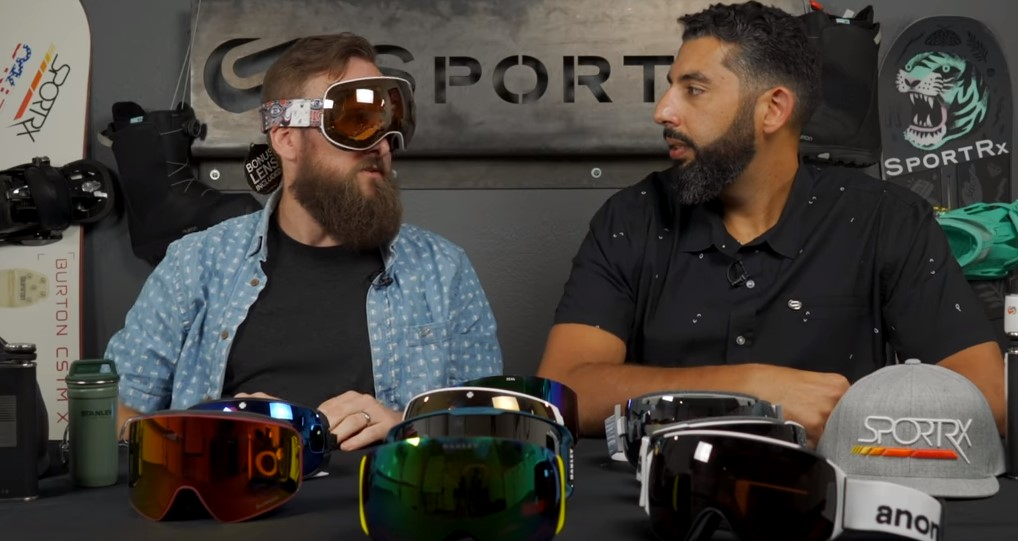face_no_mask: (650, 5, 805, 184)
